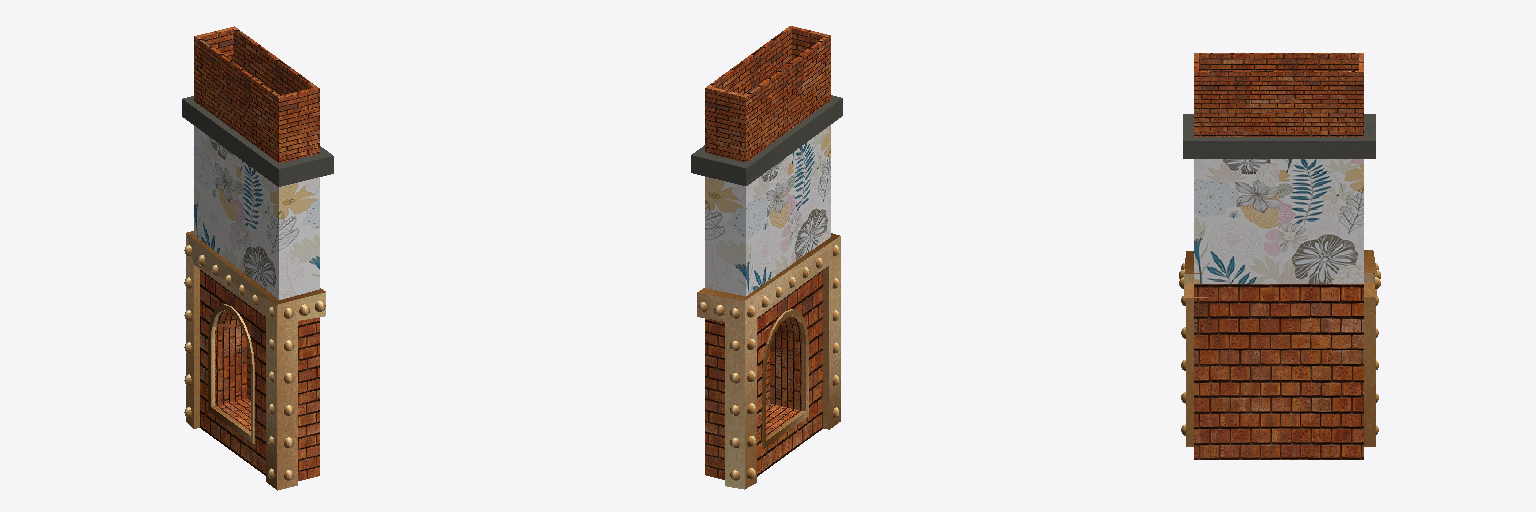
3 renders of one model, left to right at view 1: azimuth 30°, elevation 25°; view 2: azimuth 150°, elevation 25°; view 3: azimuth 270°, elevation 25°, orthographic.
Visible parts, largest first — view 1: Chimenea1:polySurface4; view 2: Chimenea1:polySurface4; view 3: Chimenea1:polySurface4.
Boxes of the visible parts, x1,y1,x2,y2 form: Chimenea1:polySurface4: [182, 26, 333, 490]; Chimenea1:polySurface4: [691, 26, 842, 489]; Chimenea1:polySurface4: [1179, 53, 1380, 459].
Size of the model in its own units: 6.43 by 41 by 19.42.
5 materials, 4 textured.